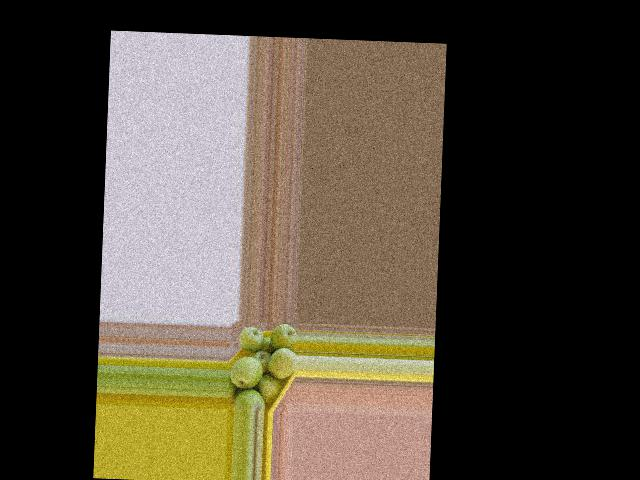apple: (256, 374, 286, 404)
